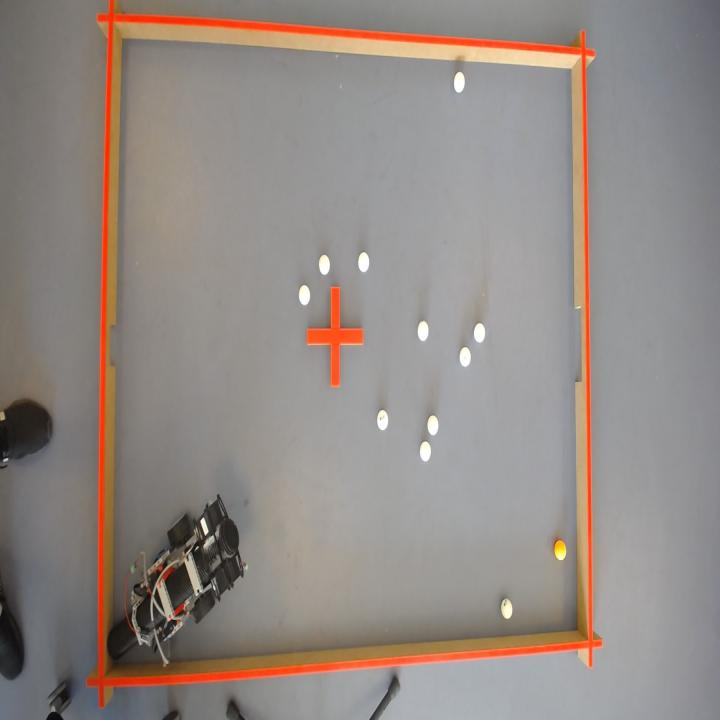orange: (555, 540, 567, 561)
robot: (106, 495, 245, 666)
white: (501, 598, 513, 620), (298, 283, 310, 304), (474, 321, 486, 342), (454, 69, 465, 91), (358, 251, 370, 271), (319, 253, 330, 274), (418, 319, 429, 340), (377, 409, 388, 430), (428, 414, 439, 435), (420, 441, 431, 461), (460, 346, 471, 366)
